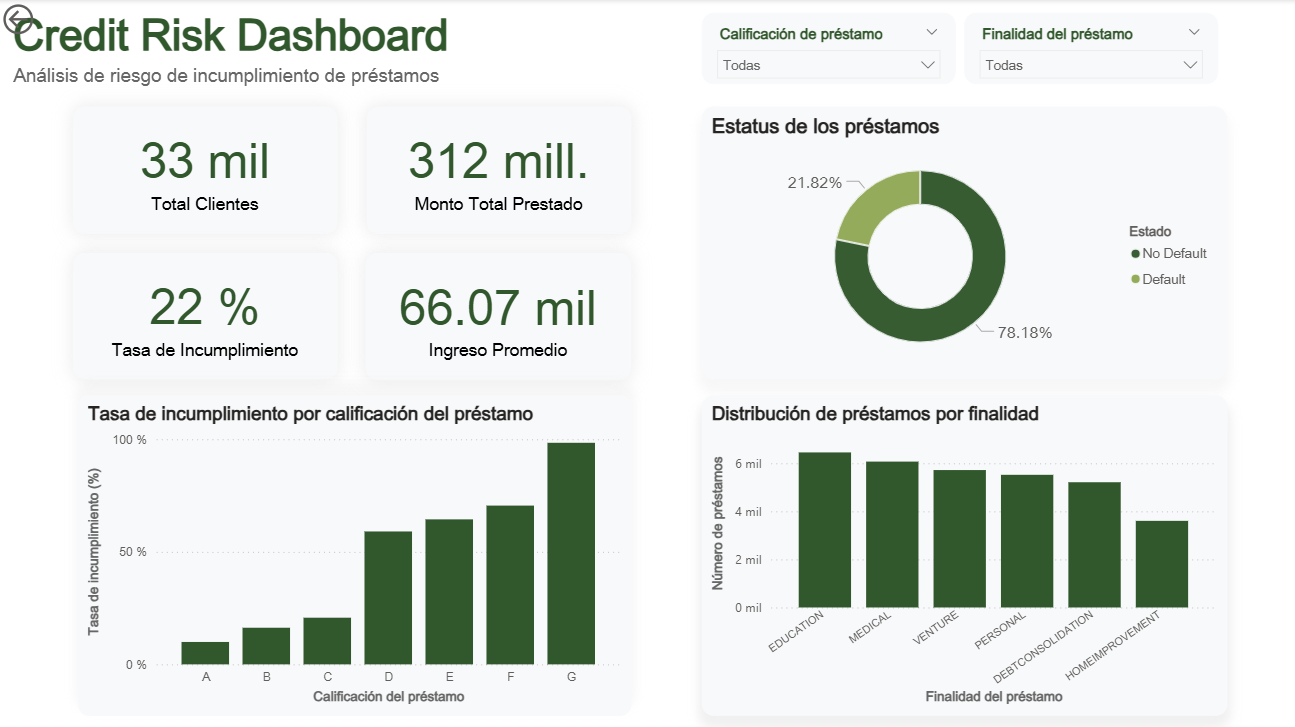

Layout of this report page (visuals, bound fields, positions):
{"tool":"powerbi","page":{"name":"Resumen de Riesgo","canvas":[1280,720],"ordinal":0},"visuals":[{"type":"textbox","box":[9.6,0,609.3,105.7],"z":0},{"type":"card","fields":{"Values":["credit_risk_dataset.Total Clientes"]},"box":[73.8,106.2,260.6,125.5],"z":1000},{"type":"card","fields":{"Values":["credit_risk_dataset.Monto Total Prestado"]},"box":[363.3,106.2,260.6,125.5],"z":2000},{"type":"card","fields":{"Values":["credit_risk_dataset.Tasa de Incumplimiento"]},"box":[73.8,249.7,260.6,125],"z":3000},{"type":"card","fields":{"Values":["credit_risk_dataset.Ingreso Promedio"]},"box":[362.1,249.7,261.8,125.5],"z":4000},{"type":"actionButton","box":[0,0,100,40],"z":5000},{"type":"donutChart","title":"Estatus de los préstamos","fields":{"Category":["credit_risk_dataset.Loan Status Label"],"Y":["CountNonNull(credit_risk_dataset.loan_status)"]},"box":[693.7,106.2,517.6,269],"z":6000},{"type":"clusteredColumnChart","title":"Tasa de incumplimiento por calificación del préstamo","fields":{"Category":["credit_risk_dataset.loan_grade"],"Y":["credit_risk_dataset.Tasa de Incumplimiento"]},"box":[78.4,390.9,545.3,316.1],"z":7000},{"type":"clusteredColumnChart","title":"Distribución de préstamos por finalidad","fields":{"Category":["credit_risk_dataset.loan_intent"],"Y":["credit_risk_dataset.Total Préstamos"]},"box":[694,391,518,316],"z":8000},{"type":"slicer","fields":{"Values":["credit_risk_dataset.loan_grade"]},"box":[693.7,13.6,250,70],"z":9000},{"type":"slicer","fields":{"Values":["credit_risk_dataset.loan_intent"]},"box":[952.5,13.6,250,70],"z":10000}]}

Visuals, with their boxes in screenshot pixels (x1, y1, x2, y2), scaled from the page's 1280x720 canvas onto the 1295x727 screenshot:
textbox: Rect(10, 0, 626, 107)
card - credit_risk_dataset.Total Clientes: Rect(75, 107, 338, 234)
card - credit_risk_dataset.Monto Total Prestado: Rect(368, 107, 631, 234)
card - credit_risk_dataset.Tasa de Incumplimiento: Rect(75, 252, 338, 378)
card - credit_risk_dataset.Ingreso Promedio: Rect(366, 252, 631, 379)
actionButton: Rect(0, 0, 101, 40)
"Estatus de los préstamos" donutChart: Rect(702, 107, 1225, 379)
"Tasa de incumplimiento por calificación del préstamo" clusteredColumnChart: Rect(79, 395, 631, 714)
"Distribución de préstamos por finalidad" clusteredColumnChart: Rect(702, 395, 1226, 714)
slicer - credit_risk_dataset.loan_grade: Rect(702, 14, 955, 84)
slicer - credit_risk_dataset.loan_intent: Rect(964, 14, 1217, 84)
